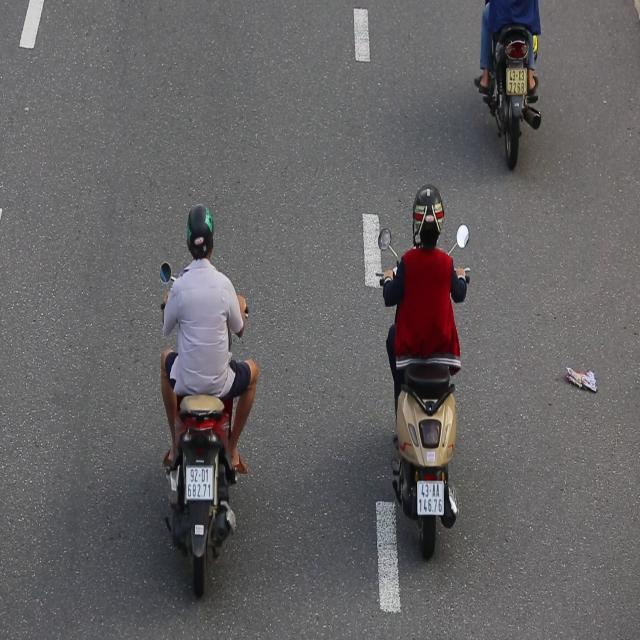motorbike: (157, 190, 260, 609), (367, 176, 475, 566)
